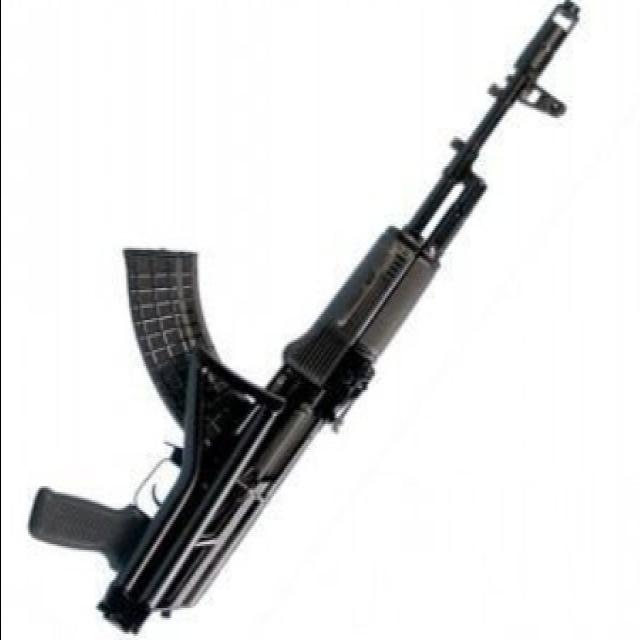rifle: (30, 5, 594, 629)
